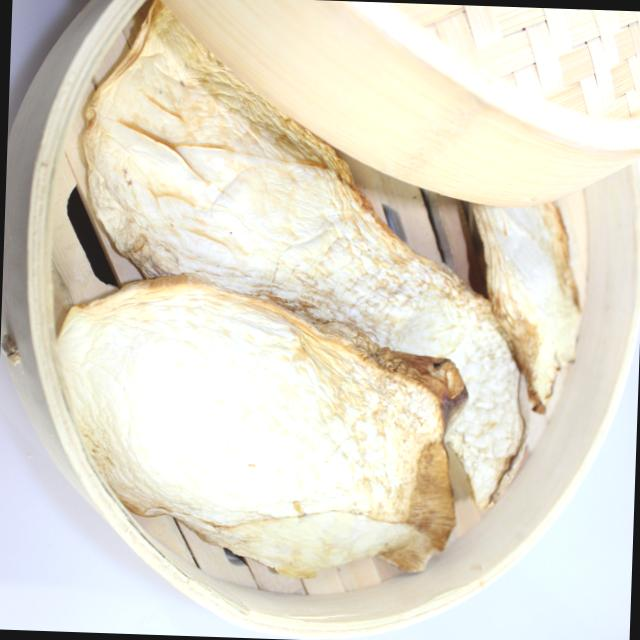Pleurotus eryngii: (62, 274, 466, 562)
